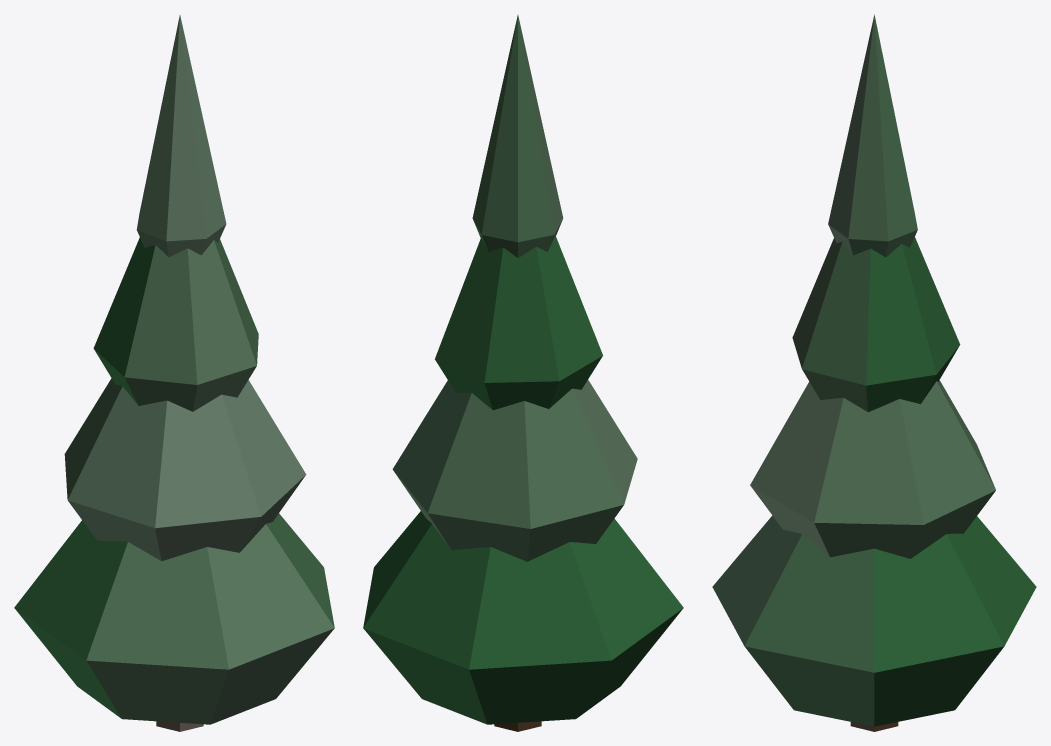
File: conifer_spire_l.glb
3 renders of one model, left to right at view 1: azimuth 30°, elevation 25°; view 2: azimuth 150°, elevation 25°; view 3: azimuth 270°, elevation 25°, orthographic.
Visible parts, largest first — view 1: conifer_spire_l; view 2: conifer_spire_l; view 3: conifer_spire_l.
Boxes of the visible parts, <box> form: conifer_spire_l: <box>14,15,334,731</box>; conifer_spire_l: <box>363,15,683,731</box>; conifer_spire_l: <box>712,14,1036,731</box>.
Size of the model in its own units: 2.85 by 7.03 by 2.92.
